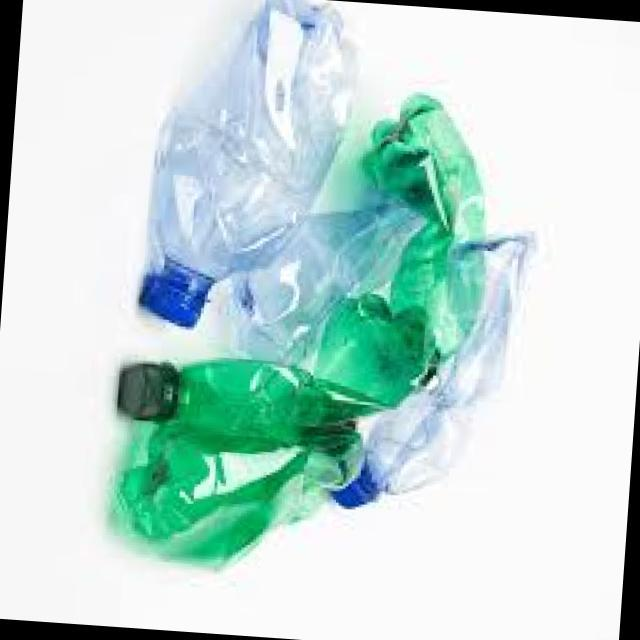defected: (100, 58, 506, 472), (105, 0, 366, 338), (54, 332, 348, 578), (338, 214, 534, 532)
